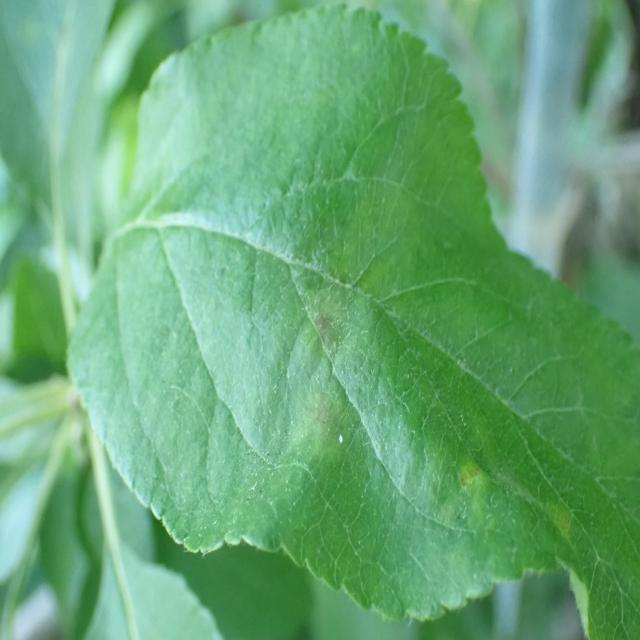scab: (114, 162, 605, 603)
